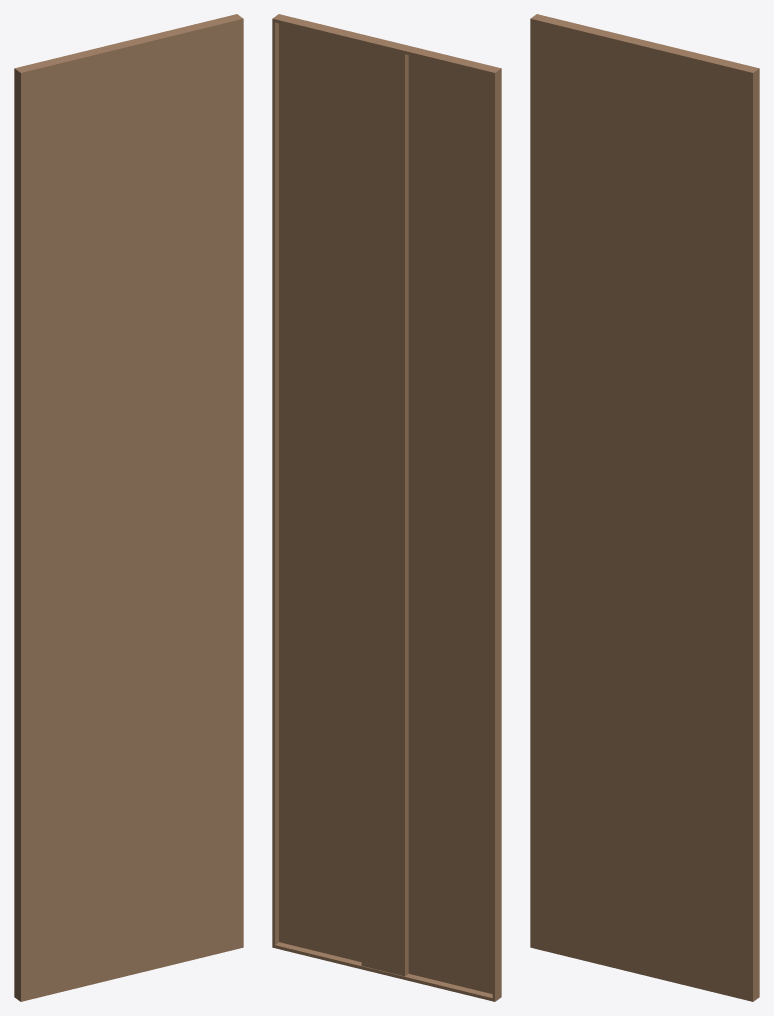
The model's file is Puerta Armario Izq 1.fbx.
The picture shows the model from 3 angles, left to right: view 1: azimuth 30°, elevation 25°; view 2: azimuth 150°, elevation 25°; view 3: azimuth 330°, elevation 25°; orthographic projection.
Parts seen in each view (by area): view 1: Puerta_Armario_Izq_1; view 2: Puerta_Armario_Izq_1; view 3: Puerta_Armario_Izq_1.
Part boxes in pixels (bbox=[...]): Puerta_Armario_Izq_1: bbox=[14, 14, 243, 1001]; Puerta_Armario_Izq_1: bbox=[272, 14, 501, 1001]; Puerta_Armario_Izq_1: bbox=[530, 14, 759, 1001].
Size of the model in its own units: 0.4087 by 1.63 by 0.0203.
